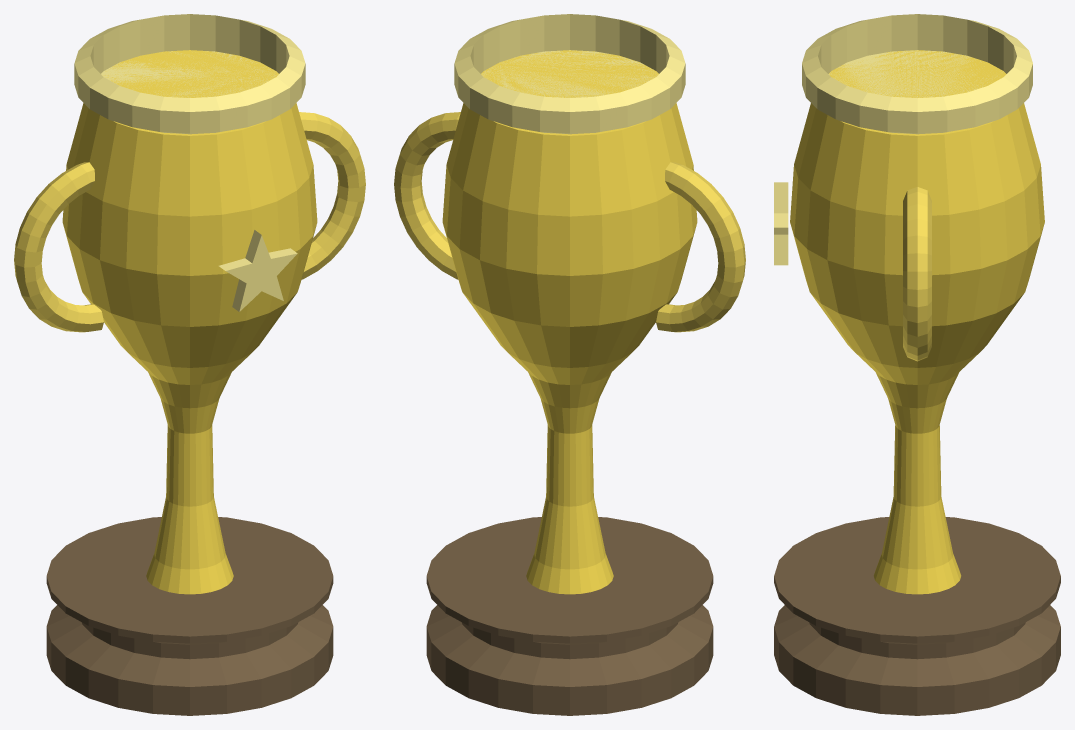
Rendered from Trophy.fbx.
3 renders of one model, left to right at view 1: azimuth 30°, elevation 25°; view 2: azimuth 150°, elevation 25°; view 3: azimuth 270°, elevation 25°, orthographic.
Visible parts, largest first — view 1: Cup, Base, Rim, Stem, HandleL, HandleR, Star; view 2: Cup, Base, Rim, Stem, HandleL, HandleR; view 3: Cup, Base, Rim, Stem, HandleR, Star.
Boxes of the visible parts, x1,y1,x2,y2 form: Cup: [62, 50, 317, 384]; Base: [46, 517, 333, 715]; Rim: [74, 14, 305, 134]; Stem: [146, 372, 233, 594]; HandleL: [14, 162, 103, 332]; HandleR: [299, 112, 365, 279]; Star: [219, 230, 297, 311]; Cup: [442, 50, 697, 384]; Base: [426, 517, 713, 715]; Rim: [454, 14, 685, 134]; Stem: [526, 372, 613, 594]; HandleL: [656, 162, 745, 332]; HandleR: [394, 112, 460, 279]; Cup: [790, 50, 1044, 384]; Base: [774, 517, 1060, 715]; Rim: [802, 14, 1032, 134]; Stem: [873, 373, 961, 594]; HandleR: [903, 187, 931, 361]; Star: [774, 182, 788, 265].
Bounding box in the file's own units: 50.6 × 83 × 36.
